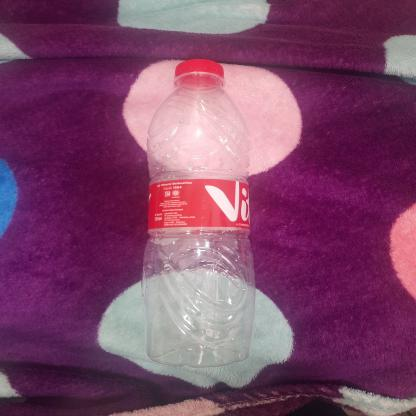bottle: (137, 58, 261, 374)
